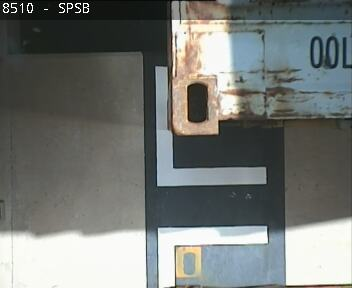groundmarker_1: (154, 62, 271, 287)
